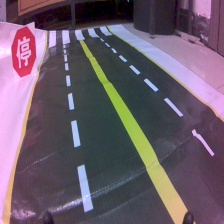stop: (8, 21, 38, 82)
